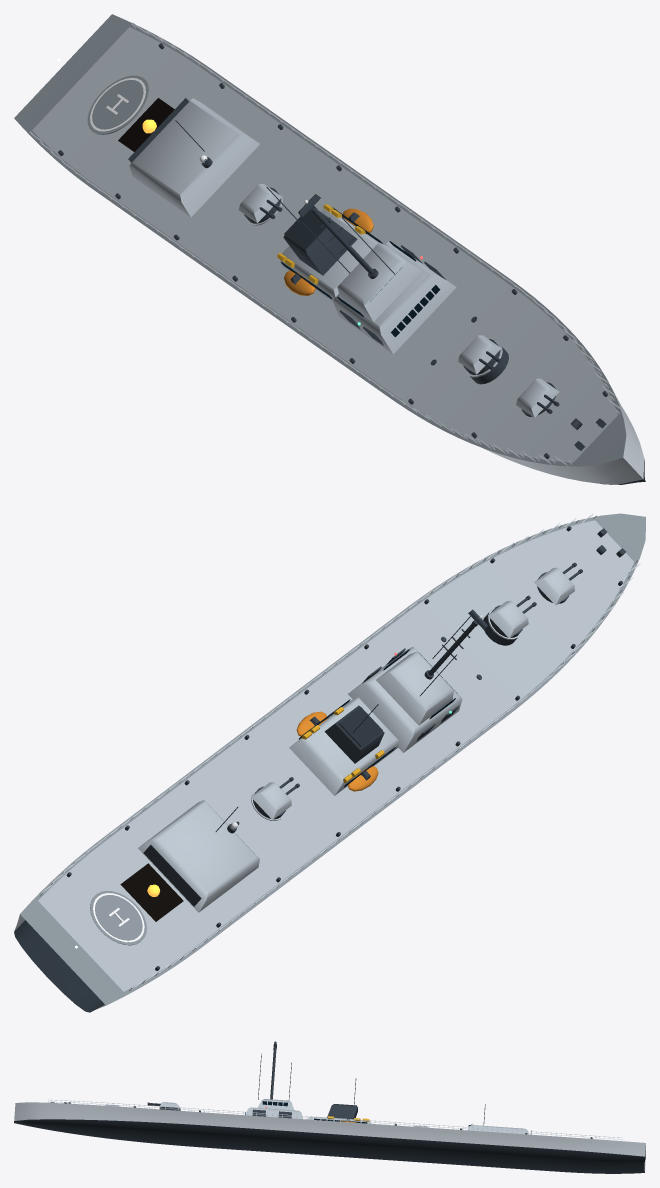
File: wreck_cruiser.glb
3 renders of one model, top to bottom at view 1: azimuth 30°, elevation 25°; view 2: azimuth 150°, elevation 25°; view 3: azimuth 270°, elevation 25°, orthographic. The views are drawn at different scales.
Visible parts, largest first — view 1: deck_plate, deck, hangar, bridge1, bridge2, hull, rails, midhouse, helideck_inner, funnel_1, scorch_fire_0, turret_shield_1 (+3 smaller); view 2: deck_plate, deck, hangar, midhouse, bridge2, bridge1, hull_under, rails, scorch_fire_0, helideck_inner, funnel_1, funnel_1_grill (+4 smaller); view 3: hull_under, hull, rails, funnel_1, hangar, bridge1, bridge2.
Part boxes in pixels (<box>): deck_plate: <box>32,27,617,462</box>; deck: <box>14,14,626,466</box>; hangar: <box>129,98,259,217</box>; bridge1: <box>333,241,456,354</box>; bridge2: <box>337,242,422,321</box>; hull: <box>484,393,644,484</box>; rails: <box>29,22,621,465</box>; midhouse: <box>280,209,378,301</box>; helideck_inner: <box>92,80,143,129</box>; funnel_1: <box>283,210,357,275</box>; scorch_fire_0: <box>118,98,174,151</box>; turret_shield_1: <box>516,378,559,417</box>; deck_plate: <box>38,520,633,991</box>; deck: <box>20,513,645,1005</box>; hangar: <box>138,800,259,912</box>; midhouse: <box>289,697,399,795</box>; bridge2: <box>376,651,453,725</box>; bridge1: <box>348,647,462,752</box>; hull_under: <box>14,920,104,1012</box>; rails: <box>39,513,640,991</box>; scorch_fire_0: <box>120,863,183,921</box>; helideck_inner: <box>95,895,142,940</box>; funnel_1: <box>324,705,384,763</box>; funnel_1_grill: <box>339,706,382,746</box>; hull_under: <box>14,1119,644,1173</box>; hull: <box>14,1102,645,1170</box>; rails: <box>47,1099,622,1140</box>; funnel_1: <box>327,1104,357,1119</box>; hangar: <box>467,1125,528,1134</box>; bridge1: <box>245,1107,302,1119</box>; bridge2: <box>257,1099,293,1110</box>.
Size of the model in its own units: 4.98 by 5.64 by 28.98.
